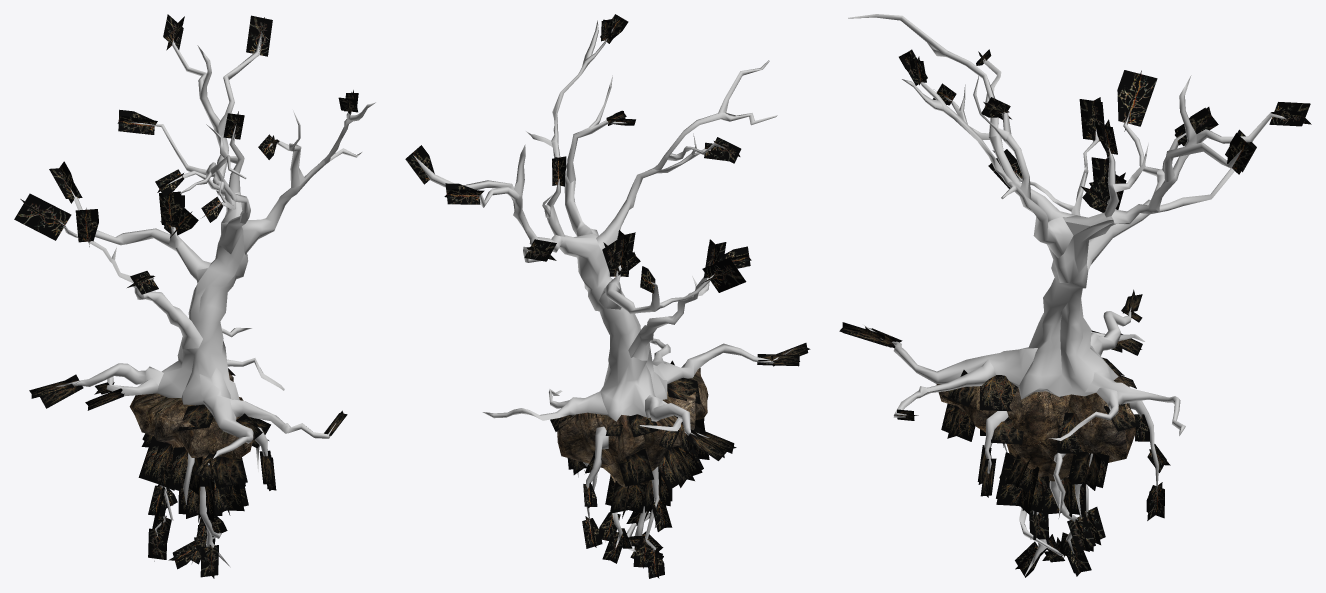
File: Model_Tree_07.fbx
The picture shows the model from 3 angles, left to right: view 1: azimuth 30°, elevation 25°; view 2: azimuth 150°, elevation 25°; view 3: azimuth 270°, elevation 25°; orthographic projection. The views are drawn at different scales.
Visible parts, largest first — view 1: polySurface1; view 2: polySurface1; view 3: polySurface1.
Boxes of the visible parts, bbox=[...] form: polySurface1: bbox=[14, 14, 375, 578]; polySurface1: bbox=[405, 14, 810, 578]; polySurface1: bbox=[839, 14, 1311, 577].
Bounding box in the file's own units: 968 × 1539 × 1147.
